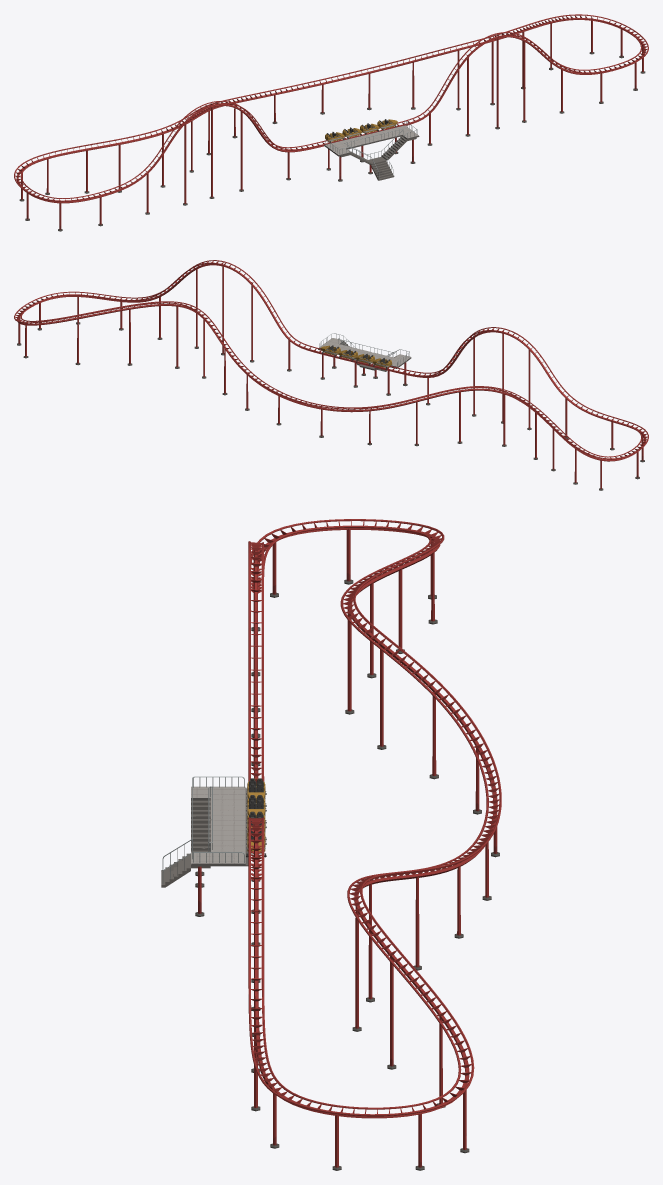
File: SM_Bldg_City_AmusementPark_RollerCoaster_01.fbx
3 views of the same model, one above another, from view 1: azimuth 30°, elevation 25°; view 2: azimuth 150°, elevation 25°; view 3: azimuth 270°, elevation 25° (orthographic). The views are drawn at different scales.
Visible parts, largest first — view 1: SM_Bldg_City_AmusementPark_RollerCoaster_01; view 2: SM_Bldg_City_AmusementPark_RollerCoaster_01; view 3: SM_Bldg_City_AmusementPark_RollerCoaster_01.
Part boxes in pixels (x1,y1,x2,y2): SM_Bldg_City_AmusementPark_RollerCoaster_01: (14, 14, 648, 231); SM_Bldg_City_AmusementPark_RollerCoaster_01: (14, 260, 648, 490); SM_Bldg_City_AmusementPark_RollerCoaster_01: (161, 519, 501, 1170).
Bounding box in the file's own units: 9273 × 1350 × 2242.
